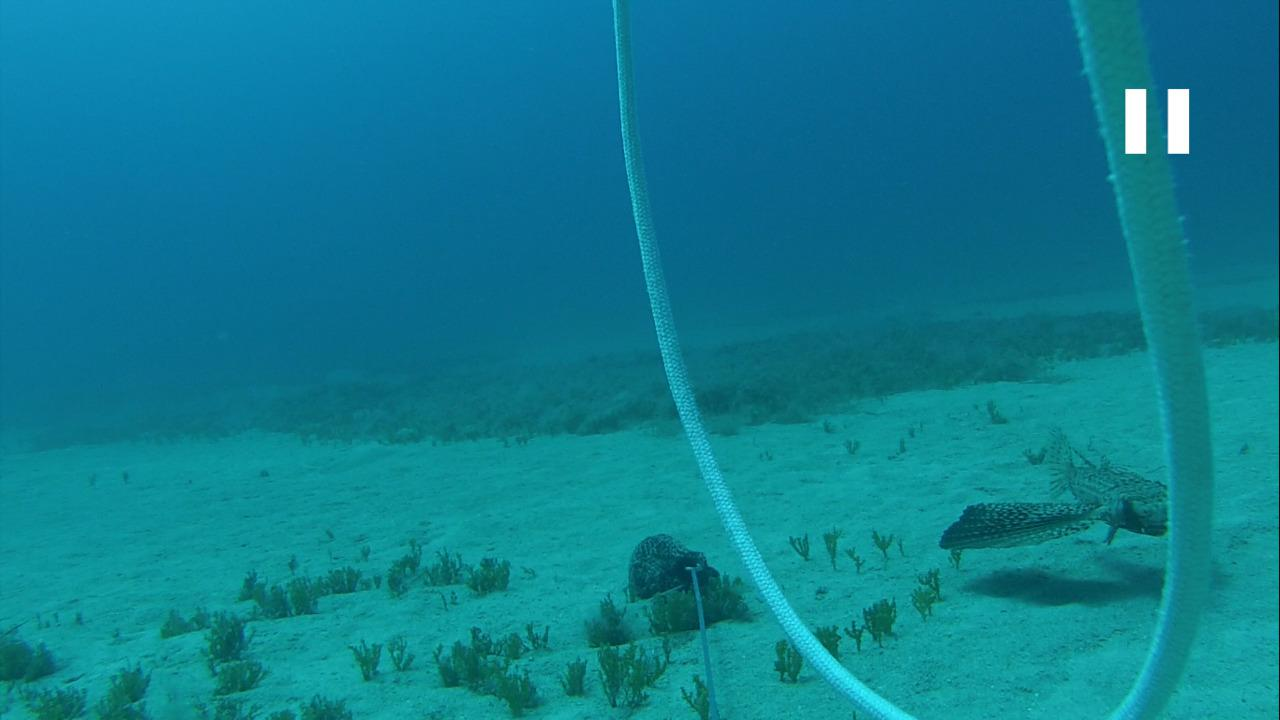dactylopterus: (942, 429, 1182, 561)
